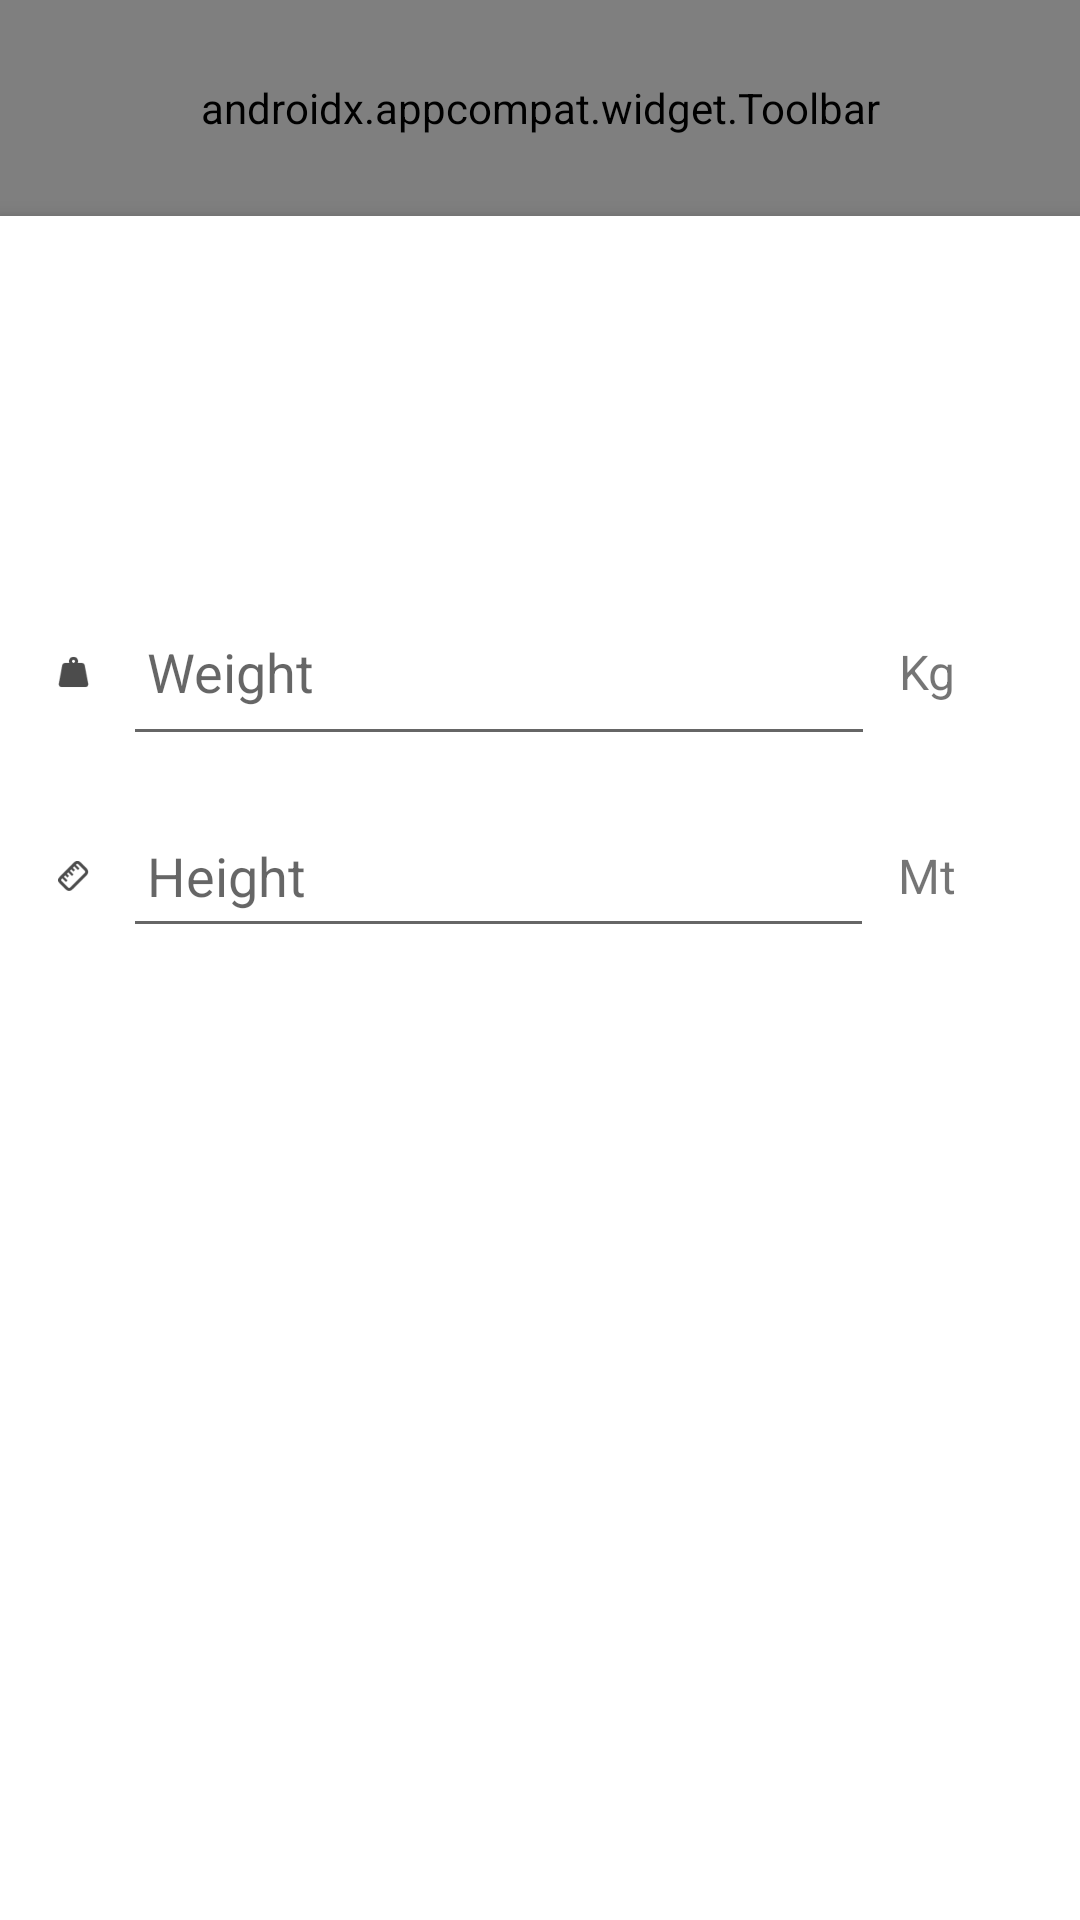

Where icons sit on this 1080×1920 app screen, as rect(x1, y1, x2, y2):
length: rect(58, 861, 89, 891)
